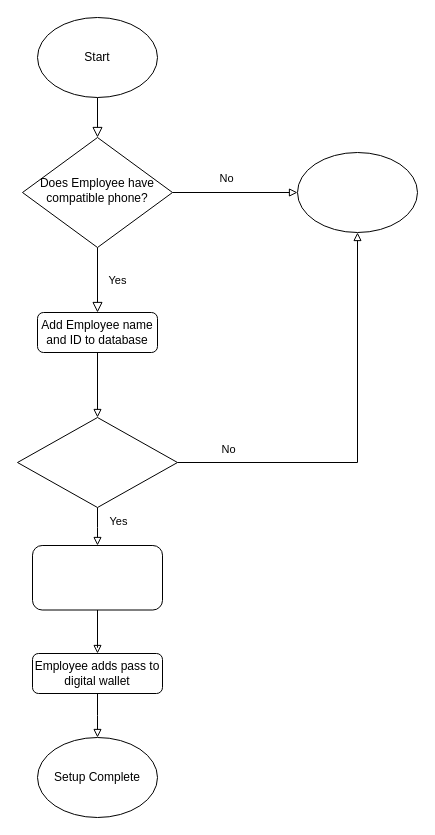
The diagram is 435 pixels wide and 835 high, and some of its shapes have lost their labels. The shapes that lost their labels are listed below. From the top down, each one's centre as x and y in pixels, then its label:
At [357,192]: "Setup cannot be completed".
At [97,462]: "Does Employee have phone number?".
At [97,577]: "Generate link to add card to digital wallet. (Send link to phone number)".
